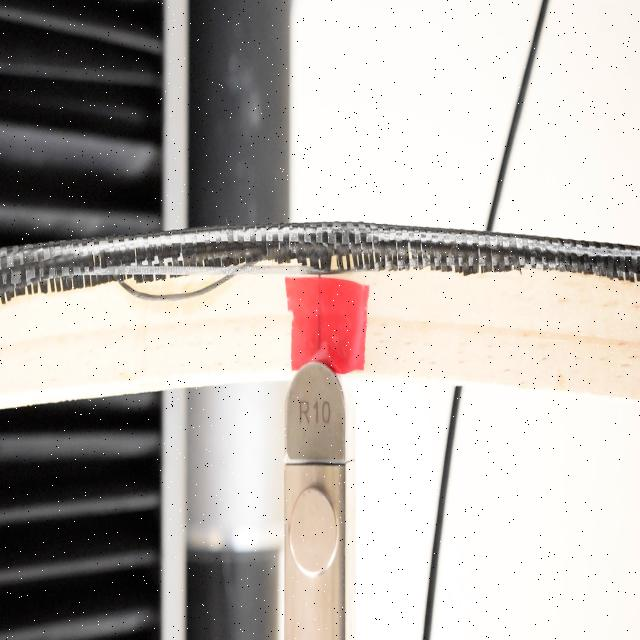wood: (2, 224, 640, 405)
